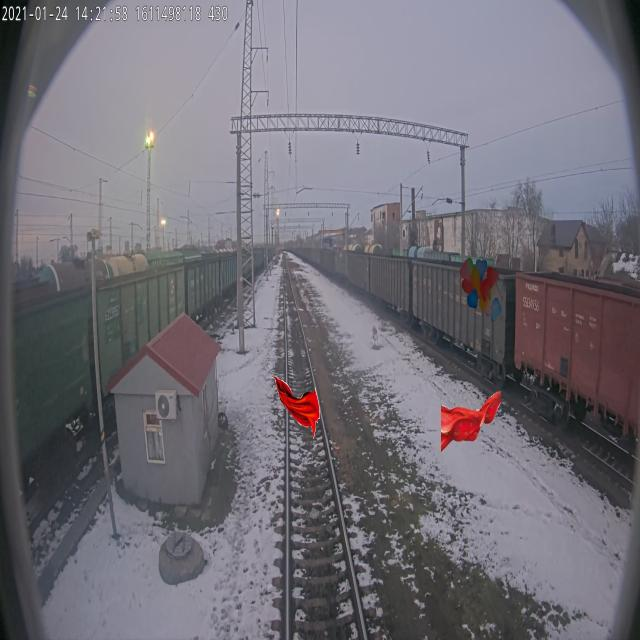balloon: (459, 257, 503, 321)
floating object: (441, 389, 501, 454), (272, 375, 321, 439)
